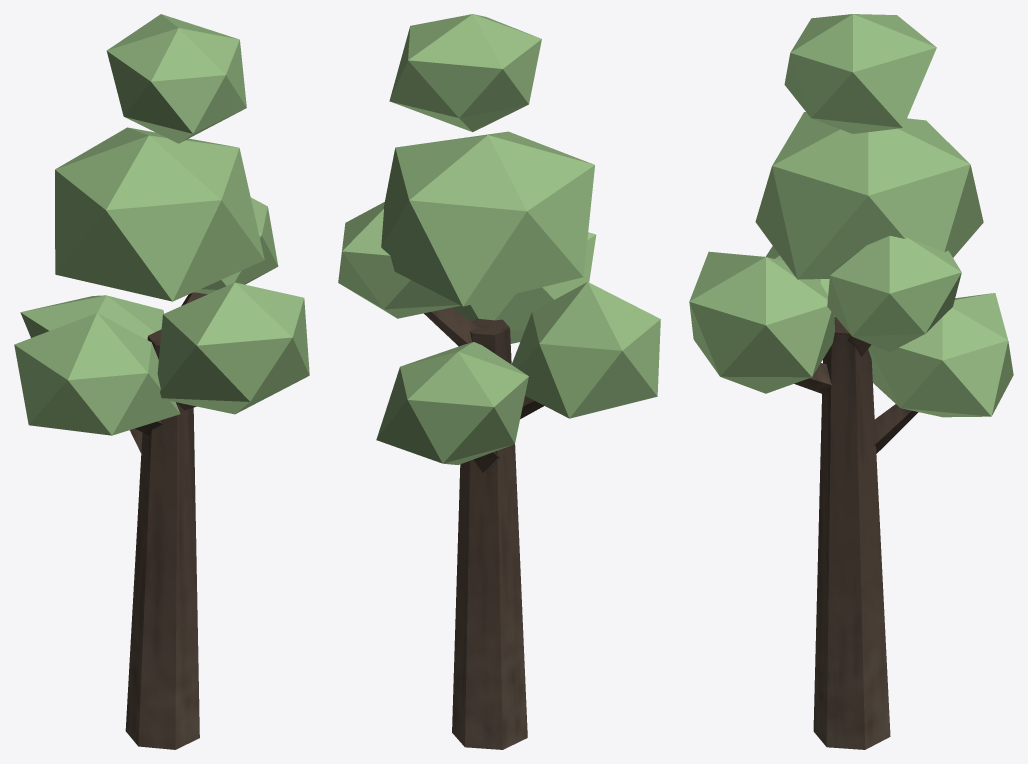
File: arv_carvalho_2.glb
3 renders of one model, left to right at view 1: azimuth 30°, elevation 25°; view 2: azimuth 150°, elevation 25°; view 3: azimuth 270°, elevation 25°, orthographic. The views are drawn at different scales.
Parts seen in each view (by area): view 1: arv_carvalho_2; view 2: arv_carvalho_2; view 3: arv_carvalho_2.
Boxes of the visible parts, x1,y1,x2,y2 form: arv_carvalho_2: (14, 14, 309, 749); arv_carvalho_2: (338, 14, 660, 749); arv_carvalho_2: (689, 14, 1013, 749).
Bounding box in the file's own units: 0.8338 × 2.06 × 0.829.
Materials: 2 (1 with a texture image).
